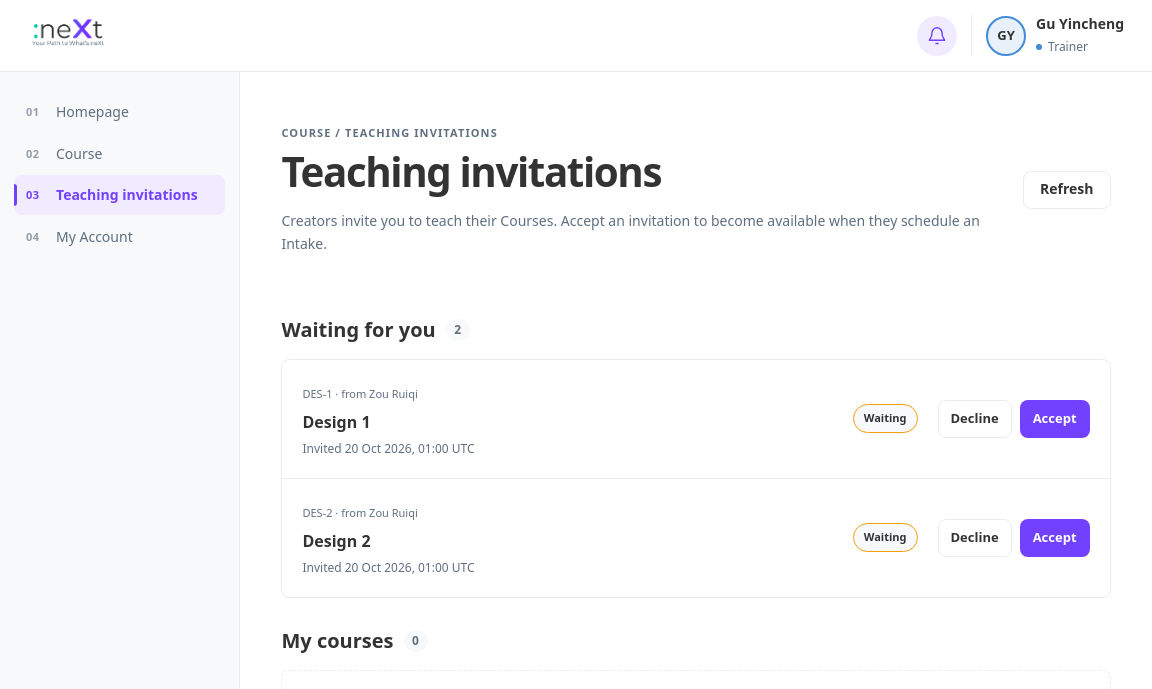
it: moves an accepted invitation to My courses and a declined one to History
Click the button "Accept" in the row of "Design 1": (1055, 419) [1020, 400, 1090, 438]
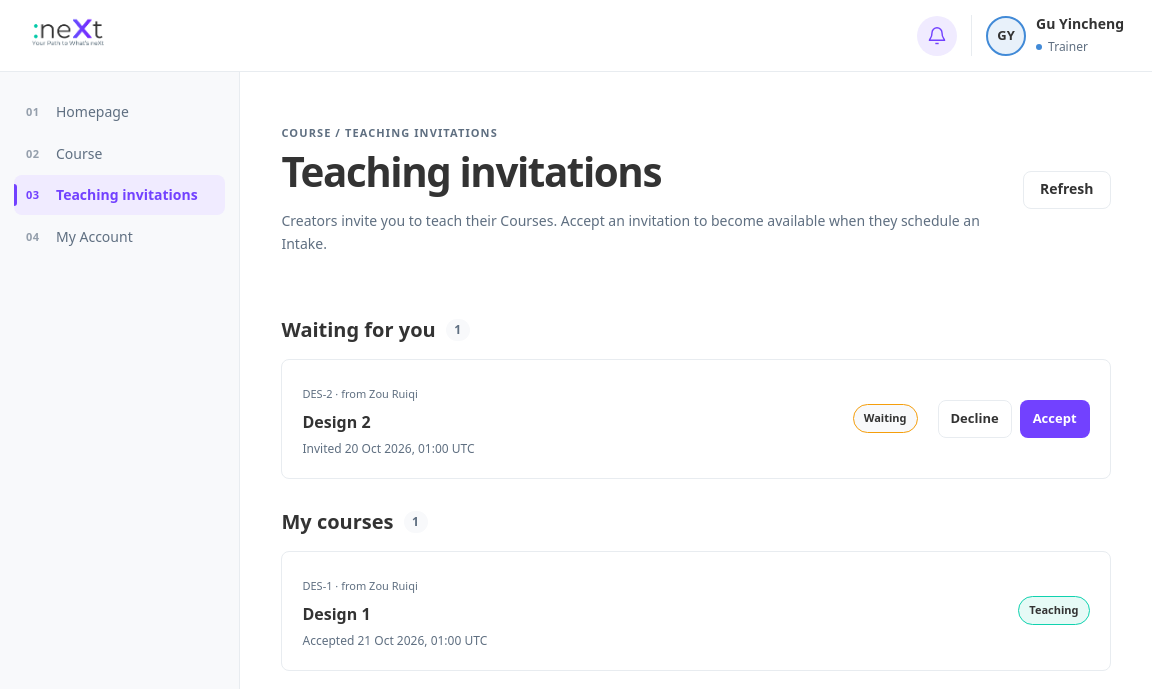
Expected: the heading "Design 1" is shown, [302, 603, 371, 625]
Click the button "Decline": (975, 419) [938, 400, 1012, 438]
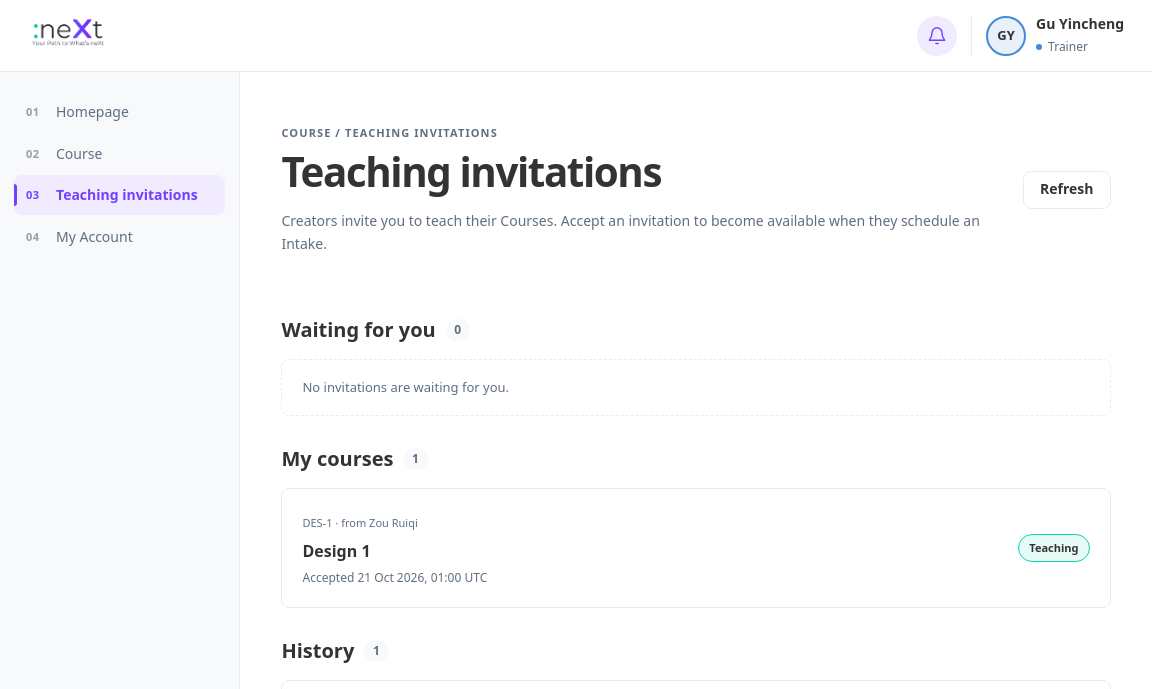
Expected: the text "No invitations are waiting for you." is shown, [282, 359, 1111, 416]
